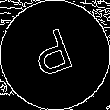P_S: (29, 25, 81, 85)
